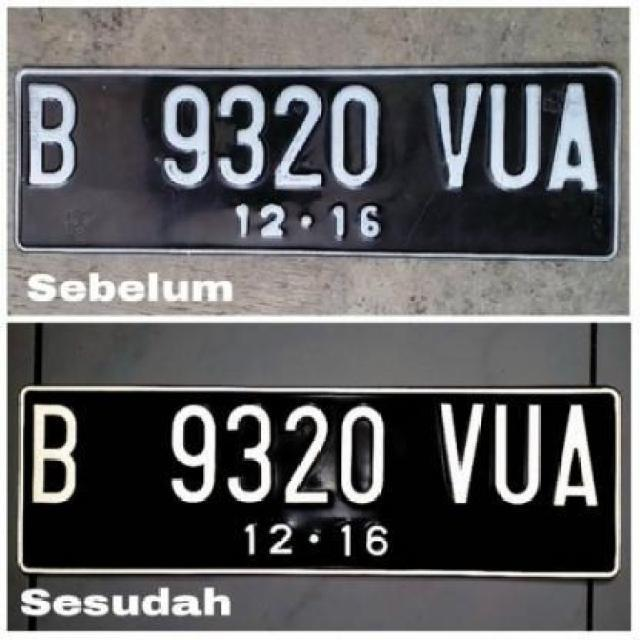0: (332, 403, 396, 512), (329, 77, 378, 200)
2: (268, 76, 326, 199), (280, 398, 334, 509)
3: (224, 398, 281, 516), (213, 76, 267, 198)
9: (157, 76, 216, 196), (168, 396, 222, 510)
A: (546, 76, 605, 204), (553, 400, 601, 522)
B: (23, 79, 82, 193), (30, 399, 84, 512)
U: (483, 80, 546, 200), (489, 398, 546, 506)
V: (427, 78, 484, 194), (433, 399, 484, 516)
